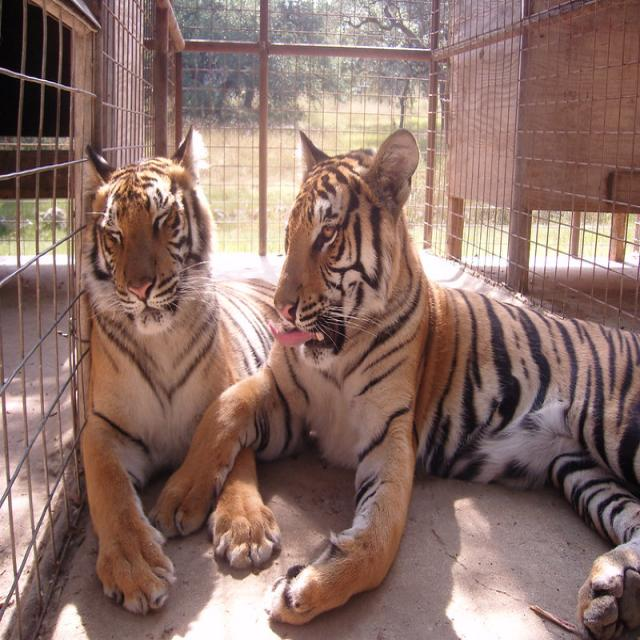Tiger: (147, 122, 638, 636), (74, 119, 286, 616)
